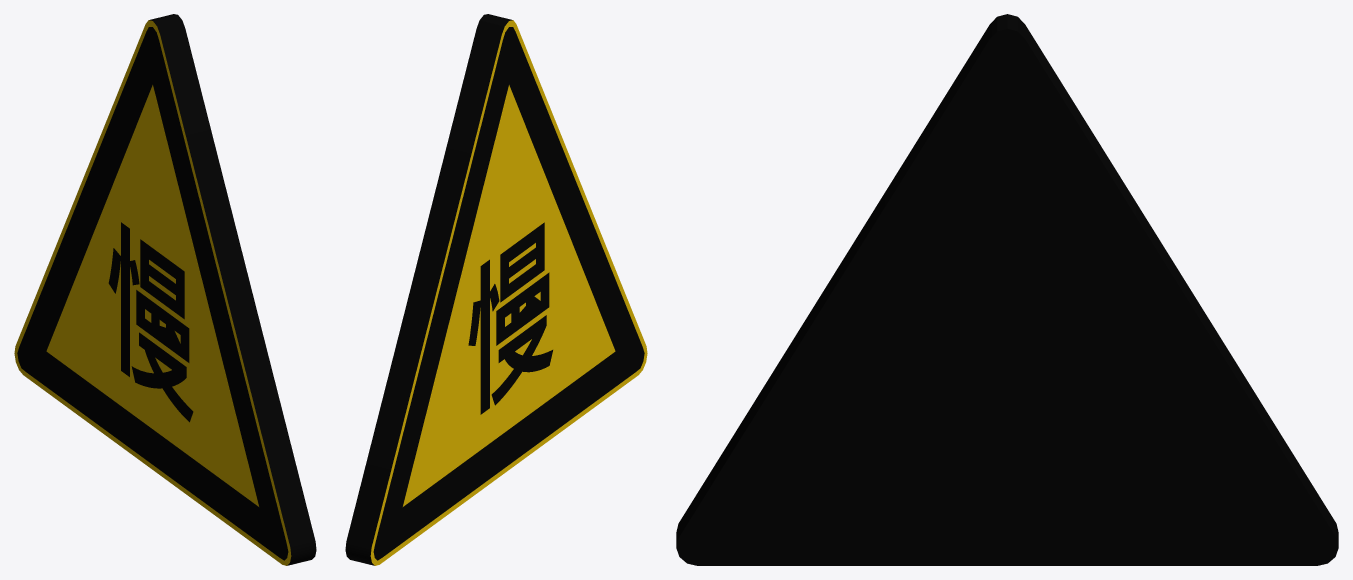
File: Slow_Driving.fbx
3 views of the same model, side by side, from view 1: azimuth 30°, elevation 25°; view 2: azimuth 150°, elevation 25°; view 3: azimuth 270°, elevation 25° (orthographic). The views are drawn at different scales.
Parts seen in each view (by area): view 1: Slow_Driving; view 2: Slow_Driving; view 3: Slow_Driving.
Part boxes in pixels (<box>): Slow_Driving: <box>14,14,316,565</box>; Slow_Driving: <box>345,14,647,565</box>; Slow_Driving: <box>676,14,1338,565</box>.
Bounding box in the file's own units: 0.0643 × 1.02 × 1.14.
